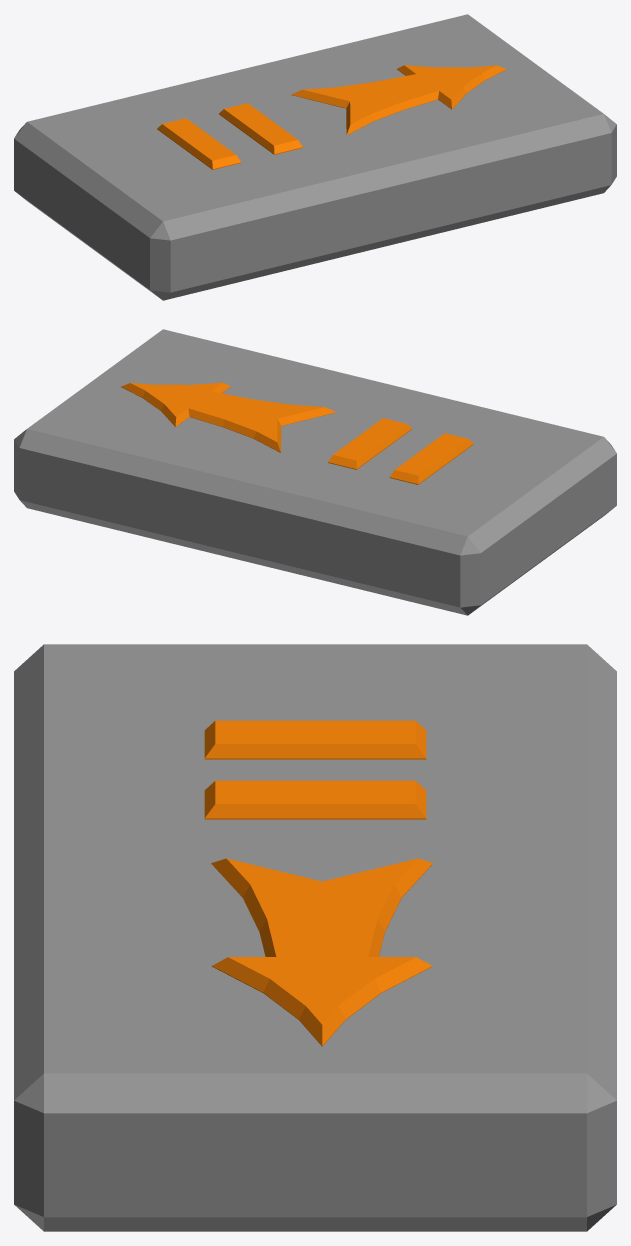
Rendered from taban.FBX.
3 views of the same model, one above another, from view 1: azimuth 30°, elevation 25°; view 2: azimuth 150°, elevation 25°; view 3: azimuth 270°, elevation 25° (orthographic). The views are drawn at different scales.
Visible parts, largest first — view 1: Box001, Object002, Object001, Object003; view 2: Box001, Object002, Object001, Object003; view 3: Box001, Object002, Object001, Object003.
Part boxes in pixels (box(x1,y1,x2,y2)): Box001: box(14, 14, 616, 300); Object002: box(291, 65, 506, 135); Object001: box(157, 118, 241, 169); Object003: box(219, 103, 302, 154); Box001: box(14, 329, 616, 615); Object002: box(121, 382, 336, 452); Object001: box(389, 433, 473, 484); Object003: box(328, 418, 411, 469); Box001: box(14, 644, 616, 1231); Object002: box(211, 858, 433, 1046); Object001: box(204, 720, 426, 759); Object003: box(204, 780, 426, 819).
Bounding box in the file's own units: 53.82 × 9.48 × 30.18.
